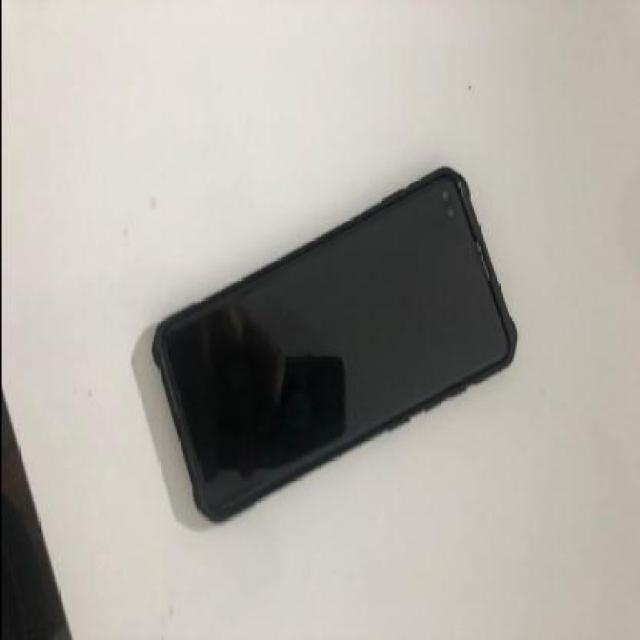phone: (149, 163, 518, 532)
